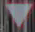Give way: (1, 0, 33, 31)
